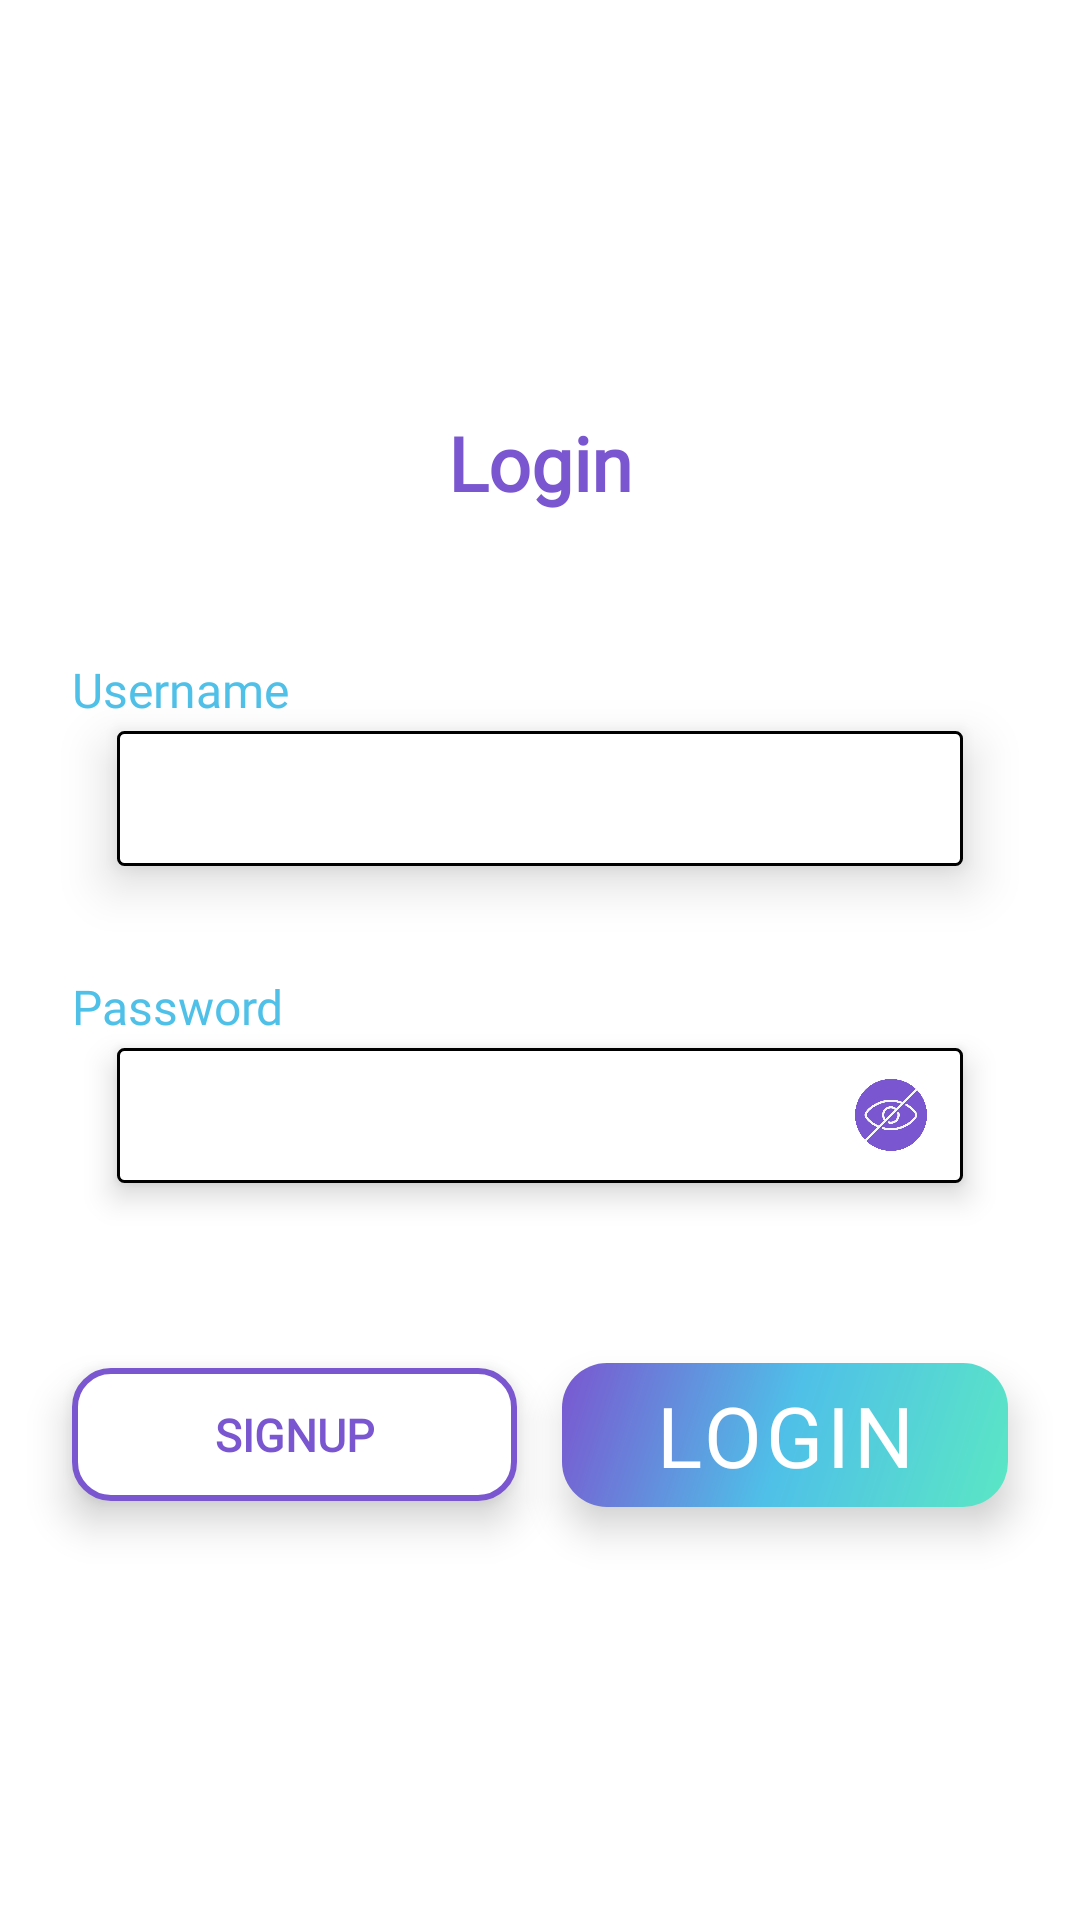

Icon bounding boxes for this 1080x1920 phone screenshot, format (x1, y1, x2, y2):
Show or hide password: (855, 1079, 927, 1151)
